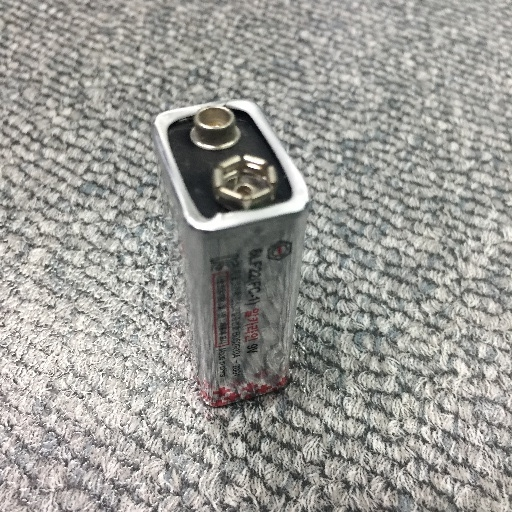Battery_3: (137, 83, 330, 426)
